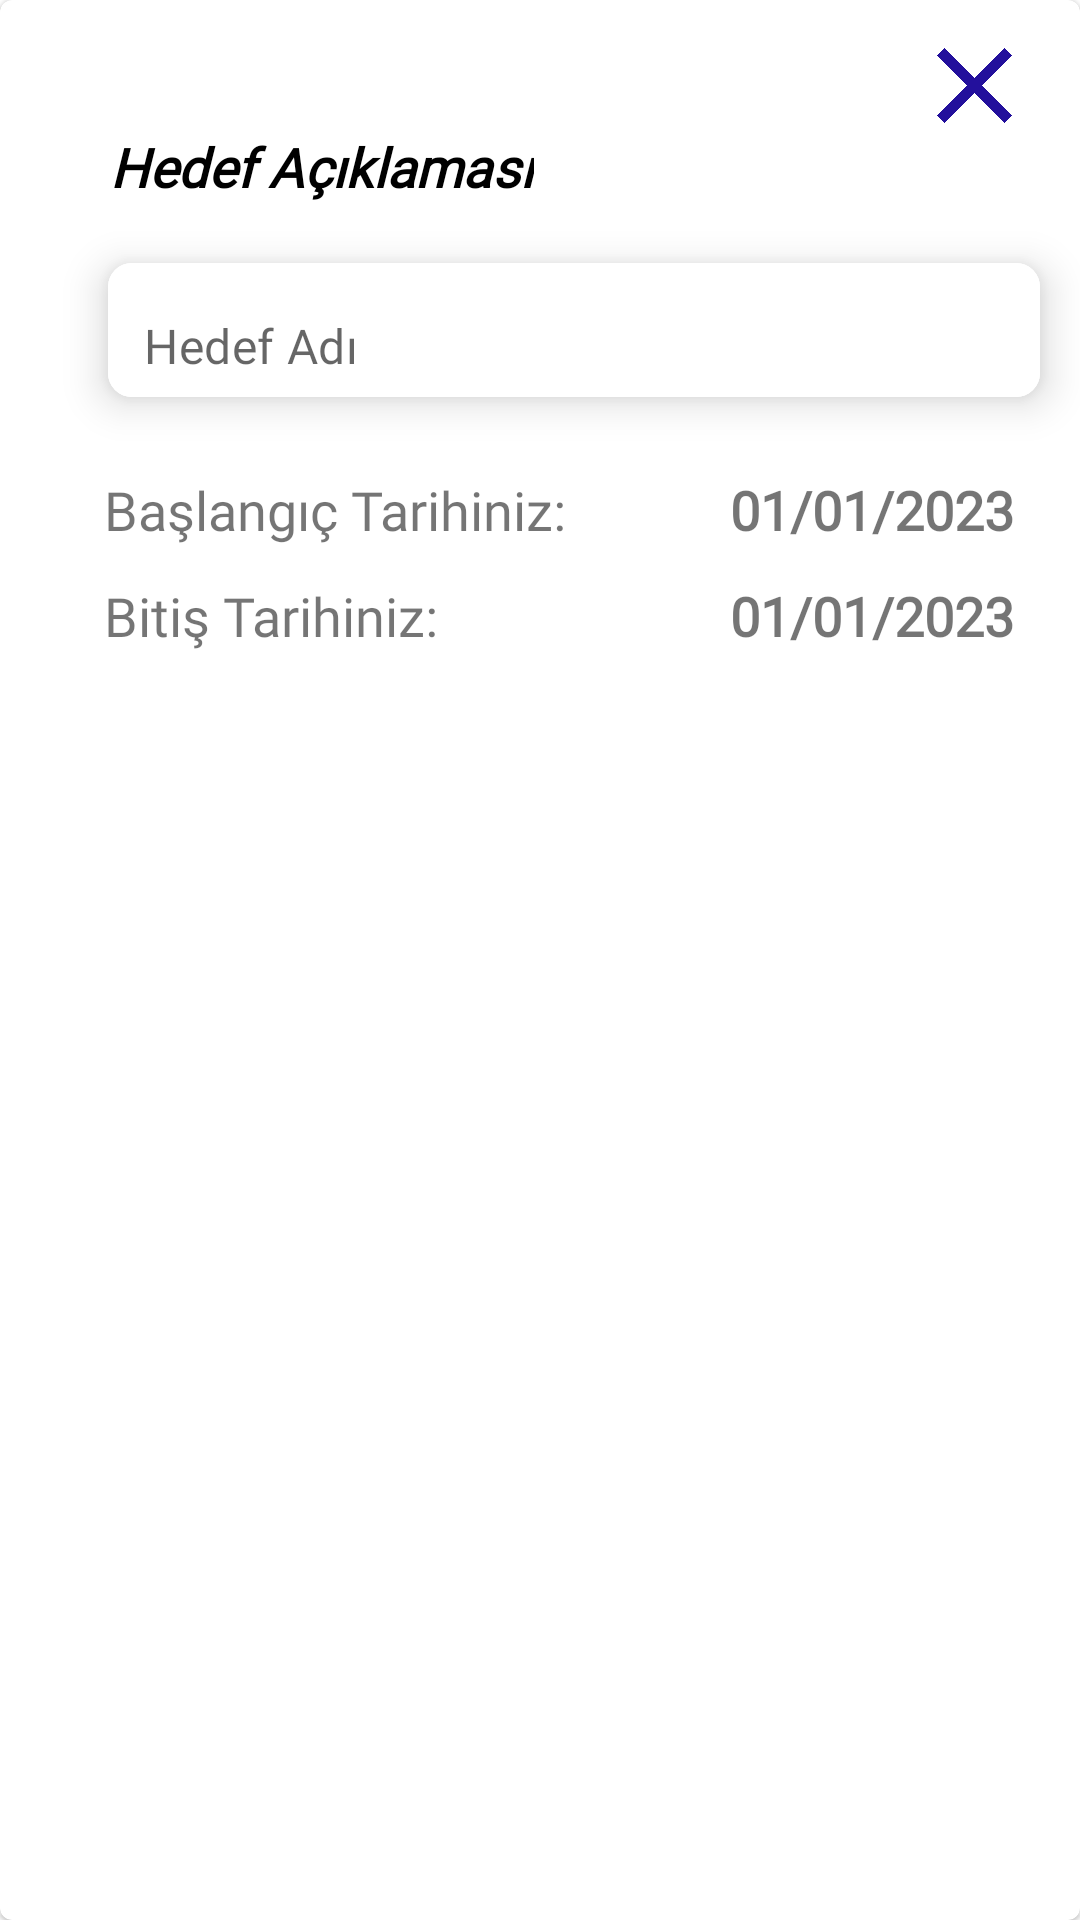

Locate icon controls on the screen. Image size 1080x1920, boxes as (x1=x1, y1=y1, x2=x2, y2=y2).
kapatma buton: (x1=937, y1=48, x2=1012, y2=123)
